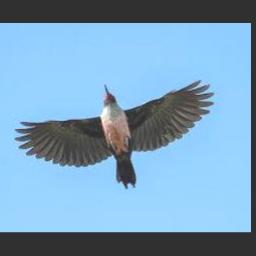Woodpecker: (15, 80, 214, 189)
